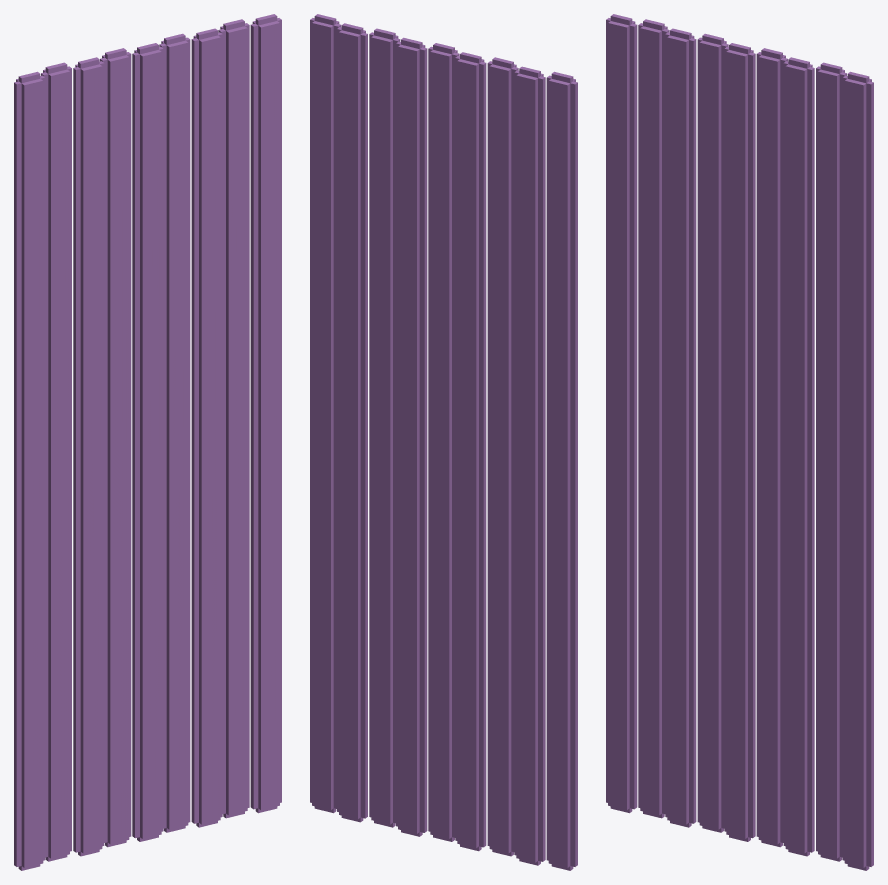
The model's file is curtain_drape.glb.
3 views of the same model, side by side, from view 1: azimuth 30°, elevation 25°; view 2: azimuth 150°, elevation 25°; view 3: azimuth 330°, elevation 25° (orthographic).
Parts seen in each view (by area): view 1: curtain_drape; view 2: curtain_drape; view 3: curtain_drape.
Part boxes in pixels (bbox=[...]): curtain_drape: bbox=[14, 14, 281, 870]; curtain_drape: bbox=[310, 14, 577, 870]; curtain_drape: bbox=[606, 14, 873, 870].
Bounding box in the file's own units: 1.12 × 3.2 × 0.08.
